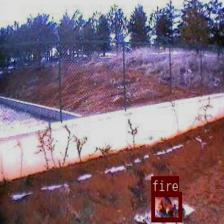fire: (150, 192, 180, 221)
